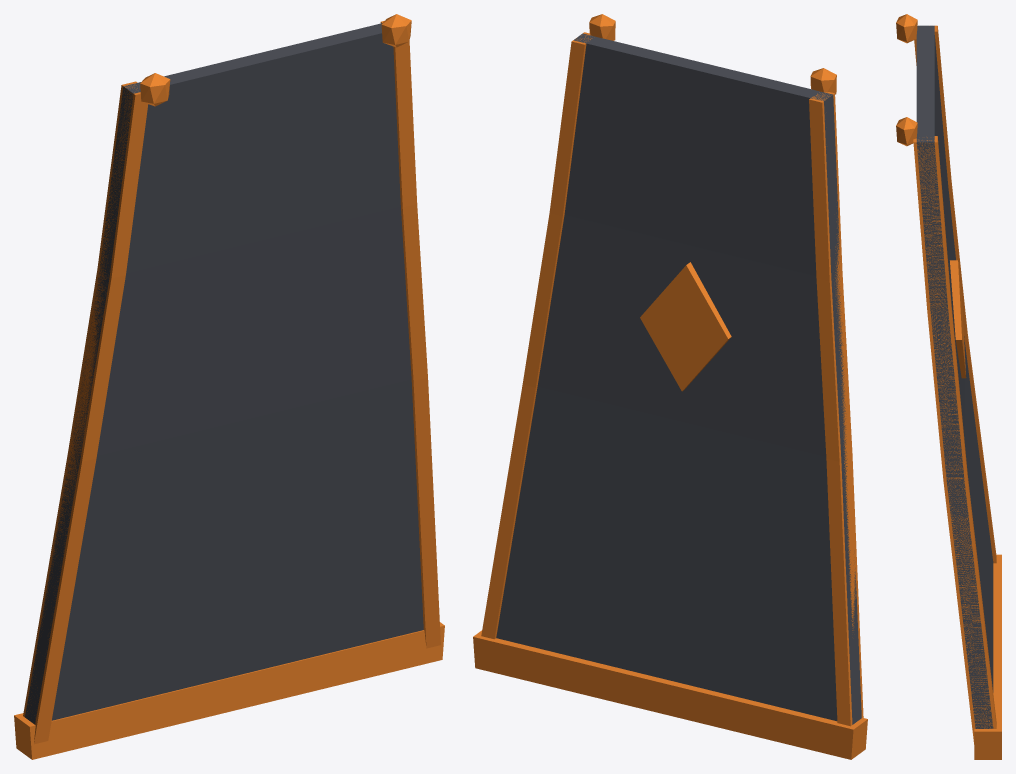
Rendered from gear_cape_smithing.glb.
3 views of the same model, side by side, from view 1: azimuth 30°, elevation 25°; view 2: azimuth 150°, elevation 25°; view 3: azimuth 270°, elevation 25° (orthographic). The views are drawn at different scales.
Visible parts, largest first — view 1: gear_cape_smithing; view 2: gear_cape_smithing; view 3: gear_cape_smithing.
Boxes of the visible parts, <box> form: gear_cape_smithing: <box>14,14,444,759</box>; gear_cape_smithing: <box>473,14,867,759</box>; gear_cape_smithing: <box>896,14,1001,759</box>.
Bounding box in the file's own units: 0.516 × 0.825 × 0.1304.
